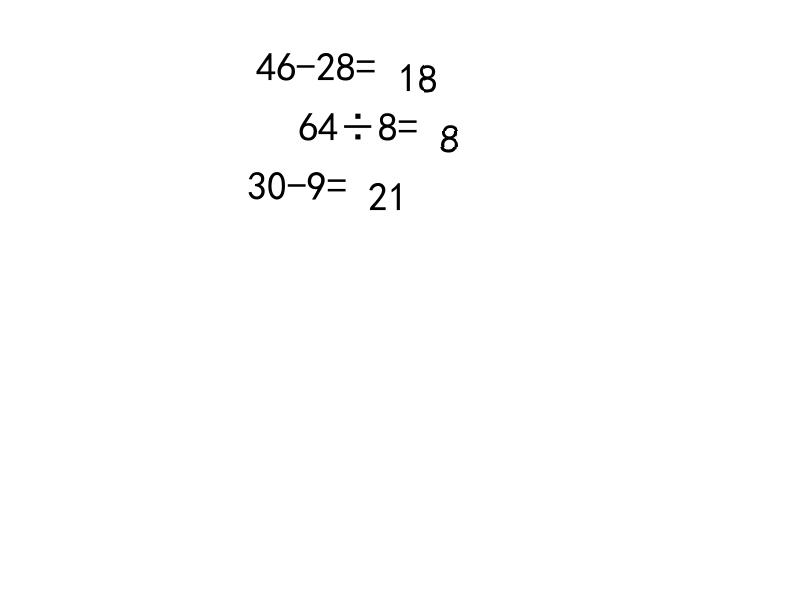-: (287, 165, 307, 195), (296, 46, 316, 75)
0: (267, 165, 287, 195)
1: (377, 165, 397, 195), (386, 46, 406, 75)
2: (357, 165, 377, 195), (316, 46, 336, 75)
3: (247, 165, 267, 195)
4: (256, 46, 276, 75), (318, 106, 338, 134)
6: (276, 46, 296, 75), (298, 106, 318, 134)
8: (336, 46, 356, 75), (406, 46, 426, 75), (378, 106, 398, 134), (428, 106, 448, 134)
9: (307, 165, 327, 195)
=: (327, 165, 347, 195), (356, 46, 376, 75), (398, 106, 418, 134)
÷: (338, 106, 378, 134)
